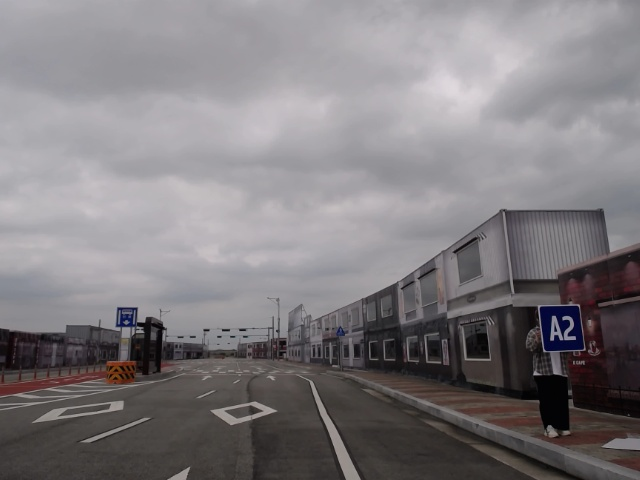delivery_a2: (538, 305, 585, 352)
